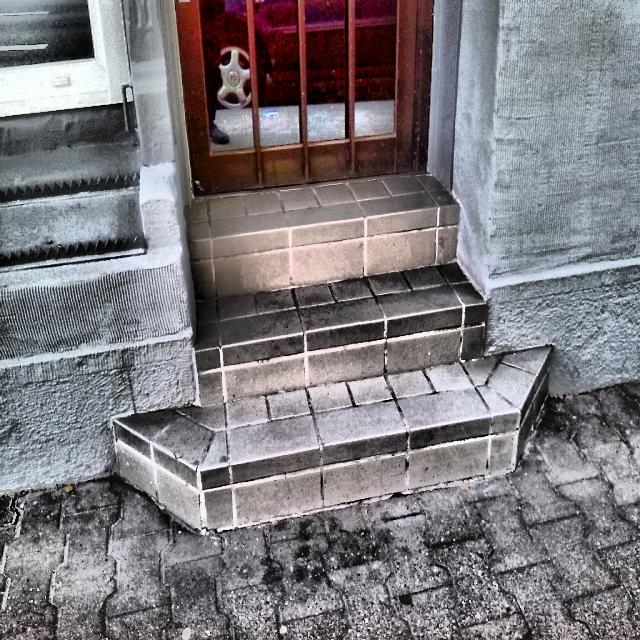escada: (121, 205, 552, 535)
